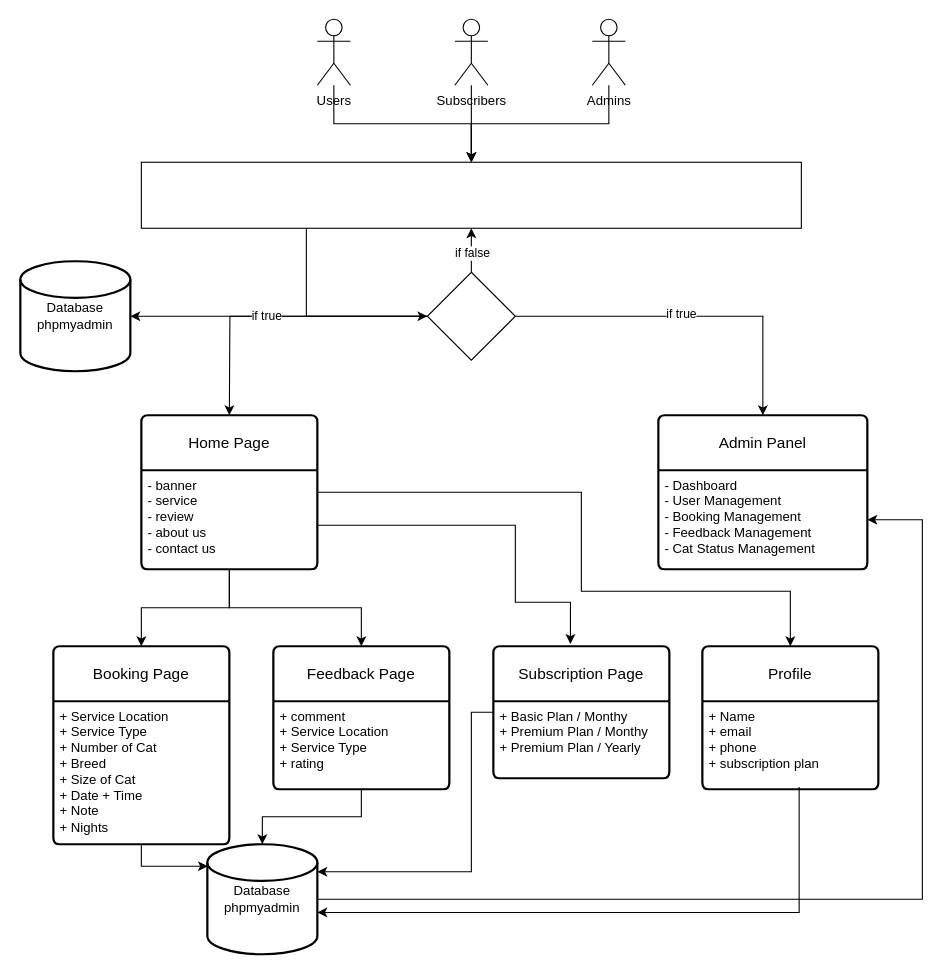
Image size: 950x975. Some labels were removed from this diagram. The centre of each missing label's shape, as x and y in pixels:
Checking Condition: the point at 470,315
Login / Register: the point at 470,194
